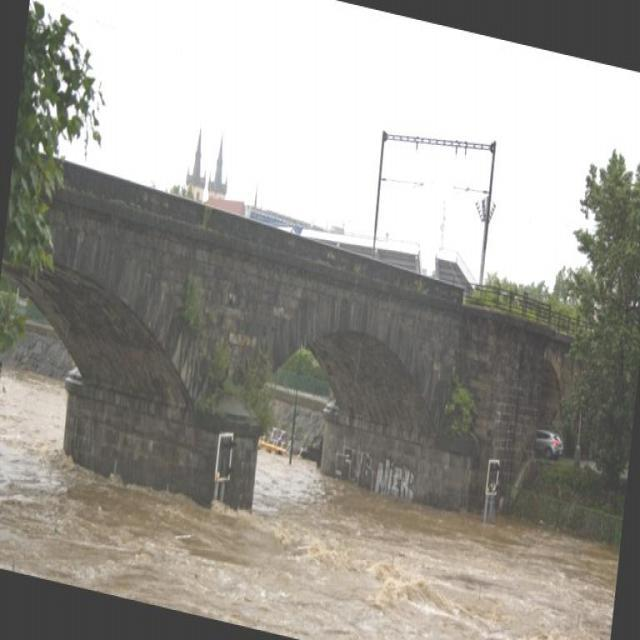flood: (0, 356, 625, 639)
